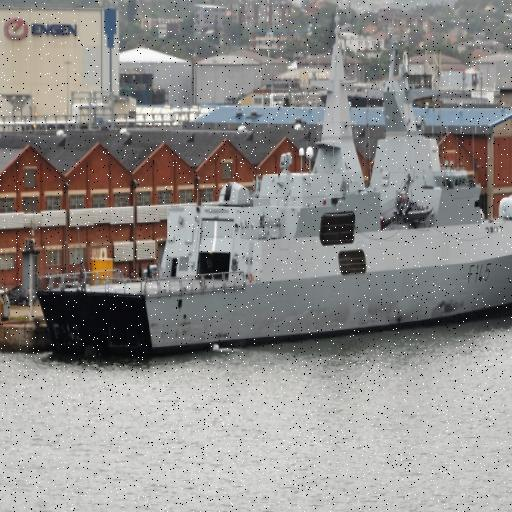Fragata: (34, 31, 512, 363)
